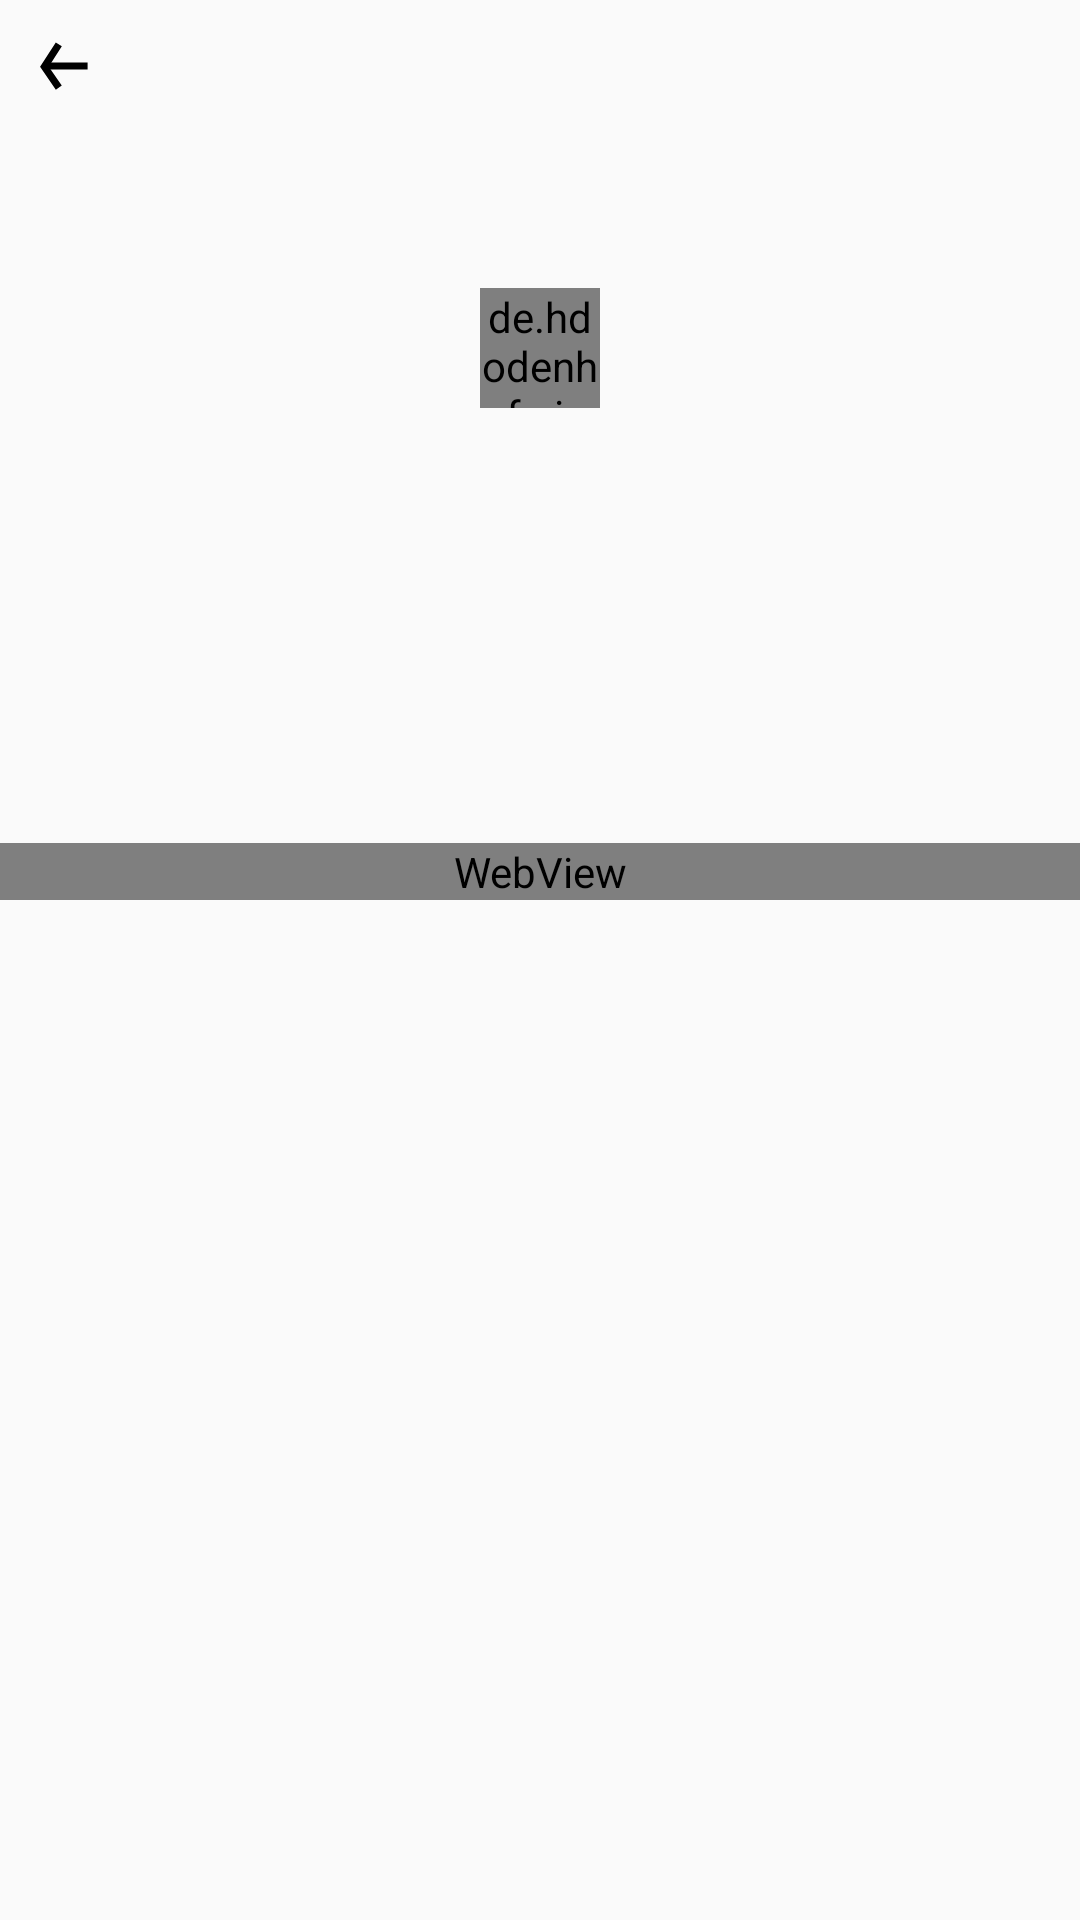

Where icons sit on this 1080x1920 app screen, as (x1, y1, x2, y2):
back: (40, 42, 88, 90)
